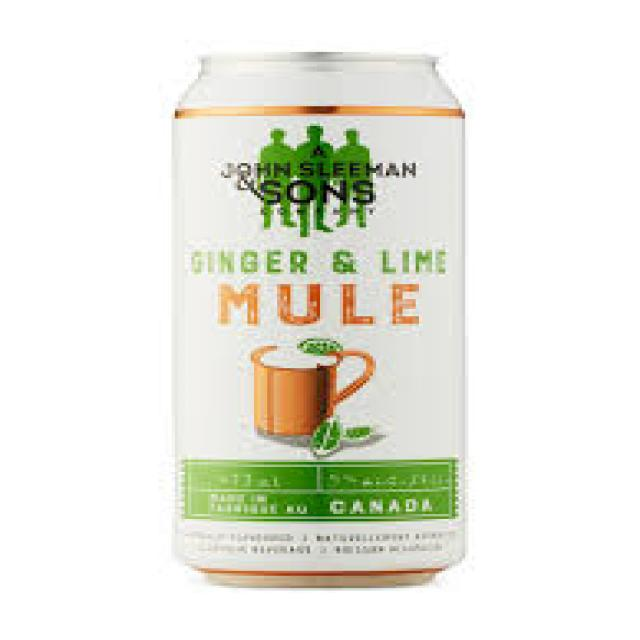Cans: (158, 34, 492, 596)
